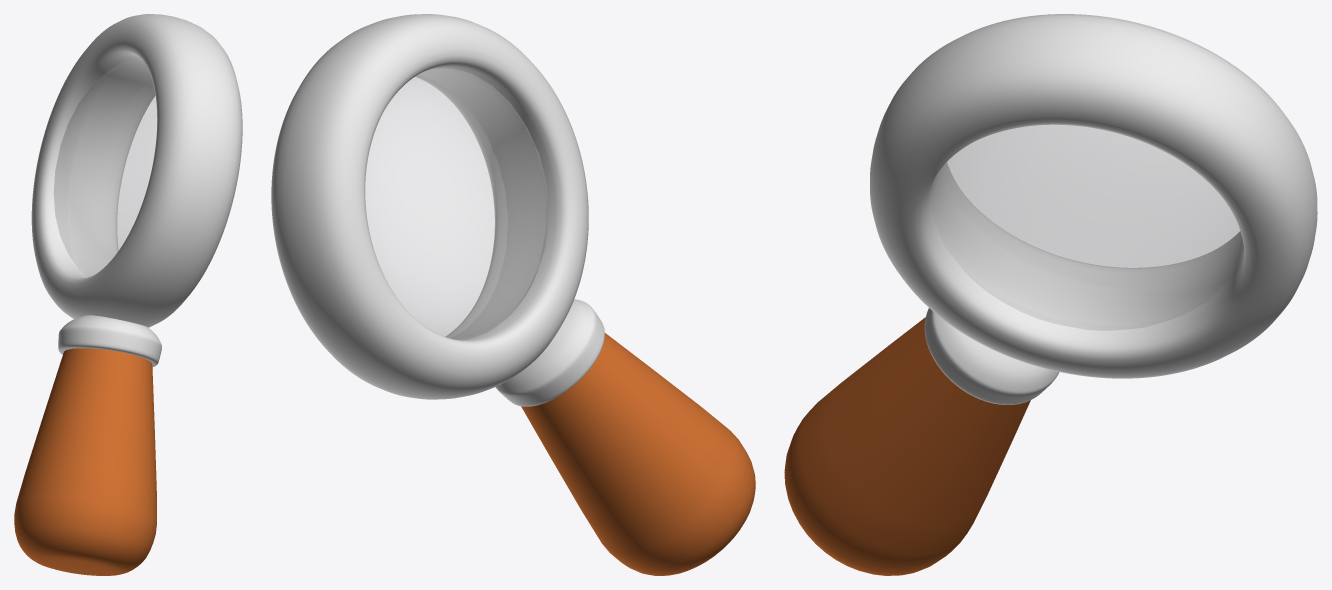
3 views of the same model, side by side, from view 1: azimuth 30°, elevation 25°; view 2: azimuth 150°, elevation 25°; view 3: azimuth 270°, elevation 25° (orthographic). The views are drawn at different scales.
Parts seen in each view (by area): view 1: Torus.028, Cylinder.056, Sphere.012, Cylinder.057; view 2: Torus.028, Sphere.012, Cylinder.056, Cylinder.057; view 3: Torus.028, Sphere.012, Cylinder.056, Cylinder.057.
Boxes of the visible parts, <box> form: Torus.028: <box>31,14,242,327</box>; Cylinder.056: <box>14,348,156,575</box>; Sphere.012: <box>54,57,156,276</box>; Cylinder.057: <box>58,315,161,366</box>; Torus.028: <box>271,14,588,399</box>; Sphere.012: <box>365,68,548,339</box>; Cylinder.056: <box>521,333,755,575</box>; Cylinder.057: <box>495,299,604,406</box>; Torus.028: <box>870,14,1317,378</box>; Sphere.012: <box>931,125,1243,330</box>; Cylinder.056: <box>784,317,1030,575</box>; Cylinder.057: <box>924,308,1059,404</box>.
Size of the model in its own units: 3.42 by 5.56 by 4.14.
